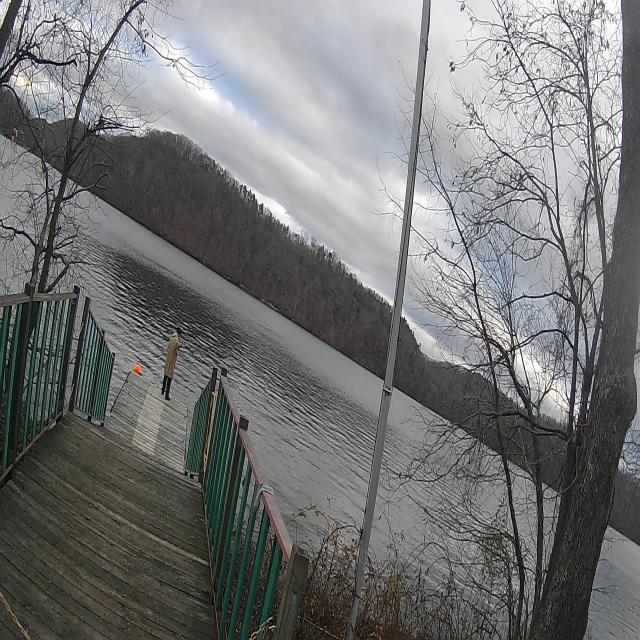Buoy: (133, 364, 143, 378)
